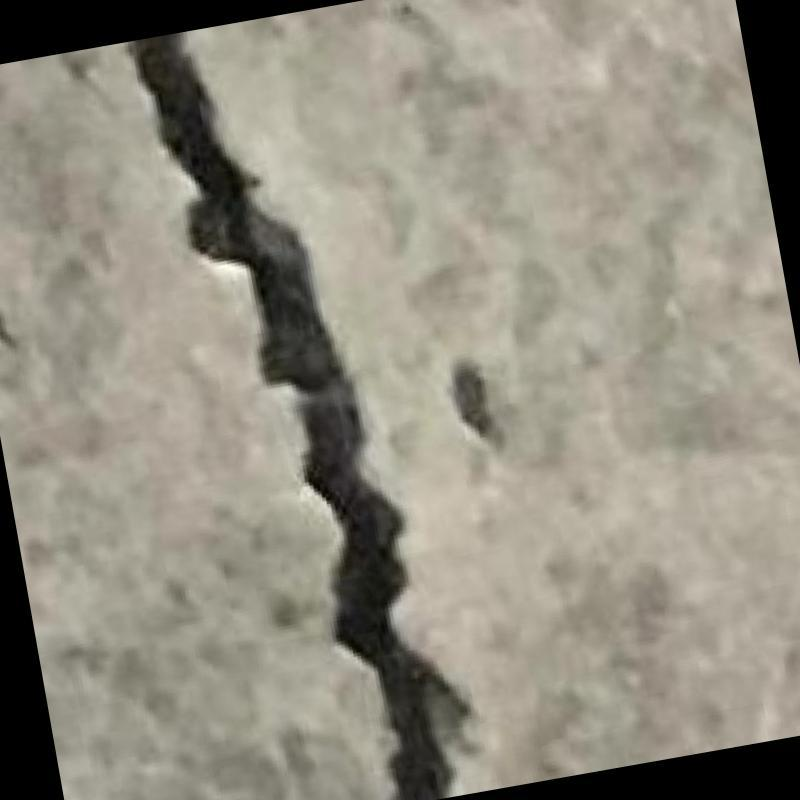pothole: (129, 32, 468, 800)
